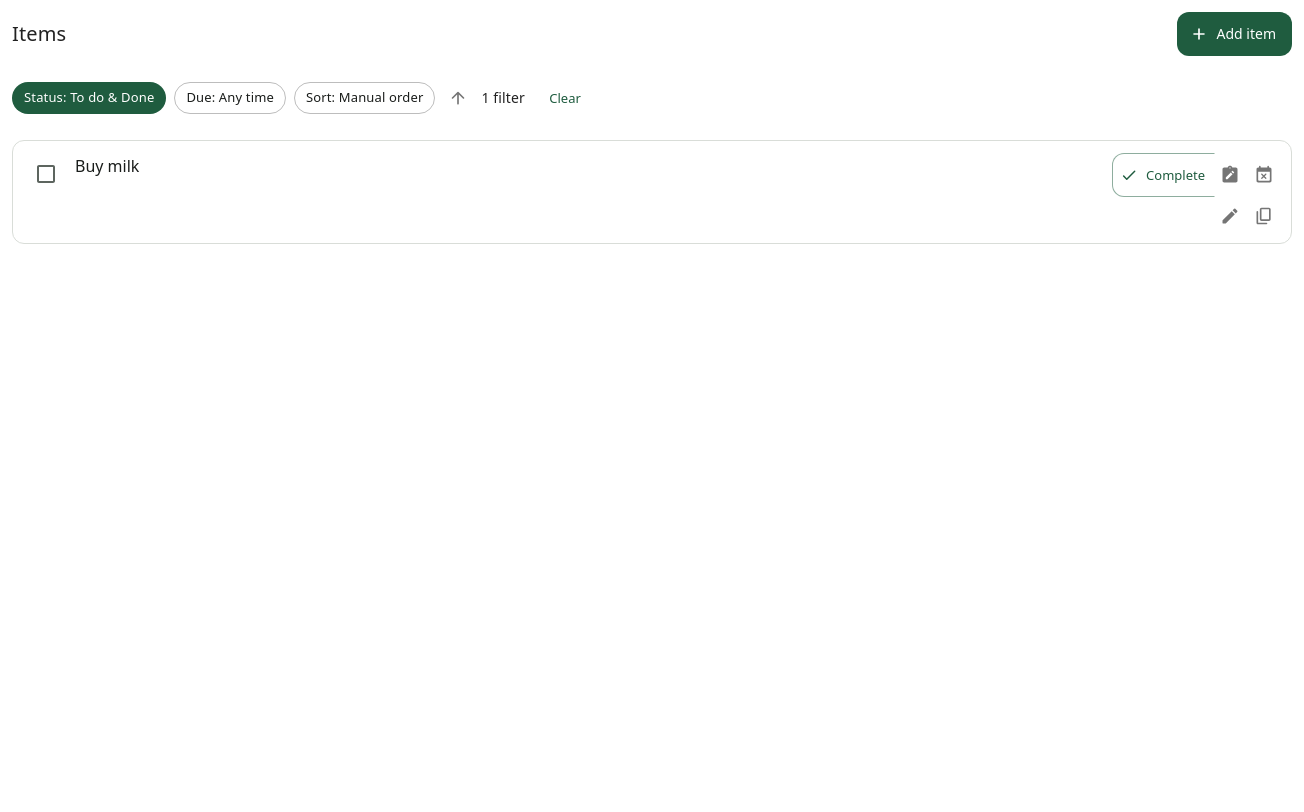
Test case: ItemsSection › tells the member who got there first, and shows what actually happened
The width and height of the screenshot is (1304, 812).
Click the button with aria-label "Complete Buy milk": click(1164, 175) [1112, 153, 1215, 197]
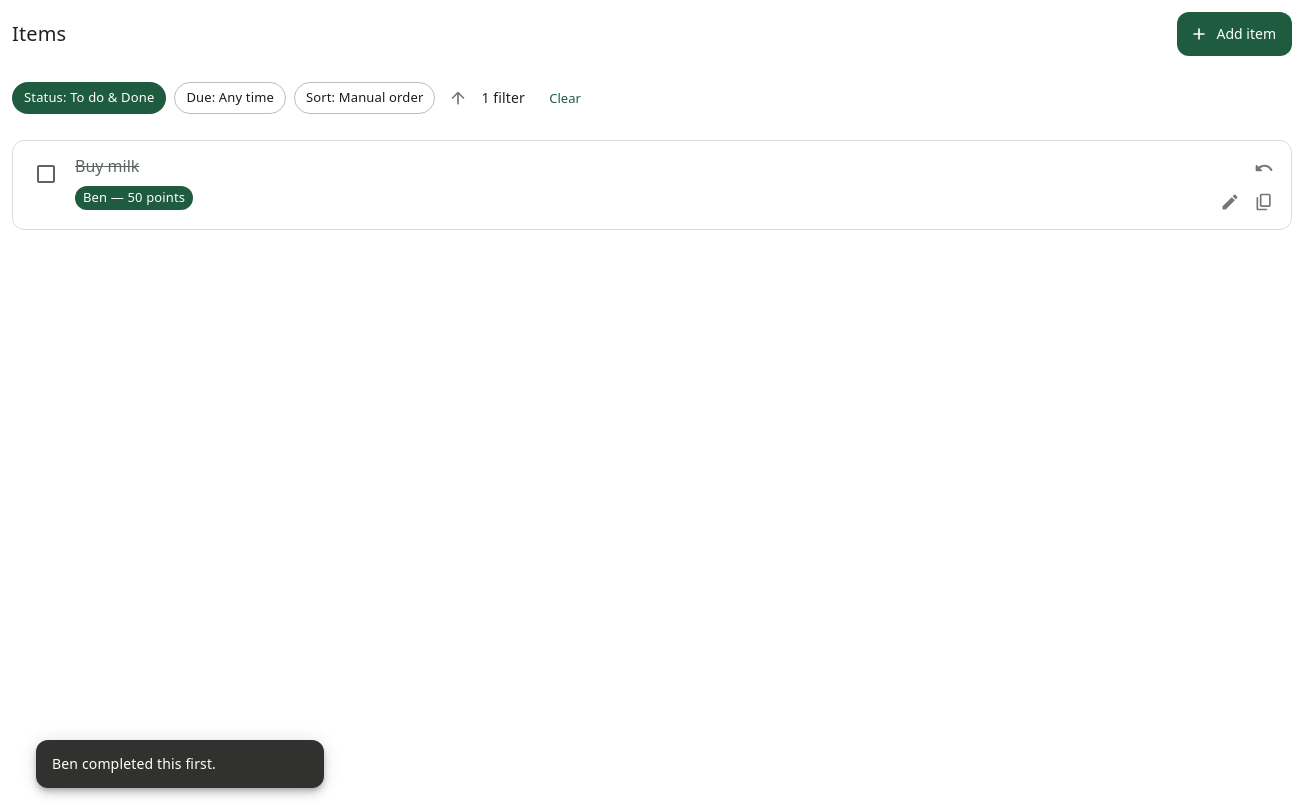
Now the text "Ben completed this first." is shown, box [52, 754, 216, 773]
Now the button named "Reopen Buy milk" is shown, box [1249, 153, 1279, 183]
Now the text "Ben — 50 points" is shown, box [75, 188, 193, 208]
